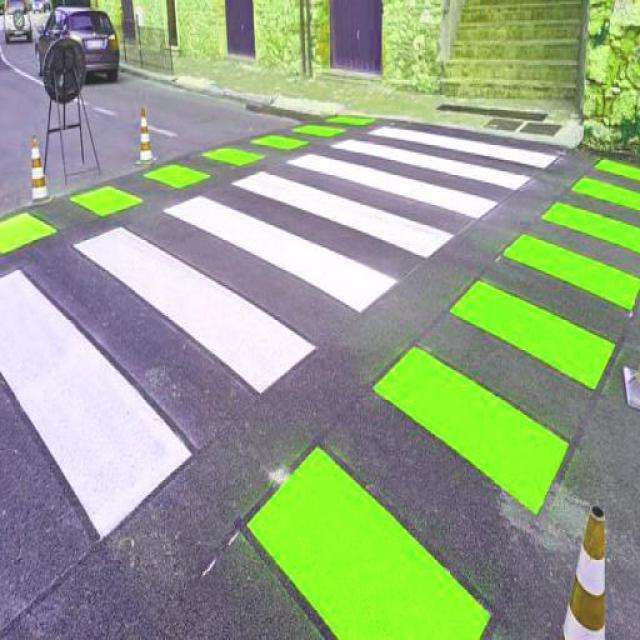crosswalk: (0, 123, 560, 546)
